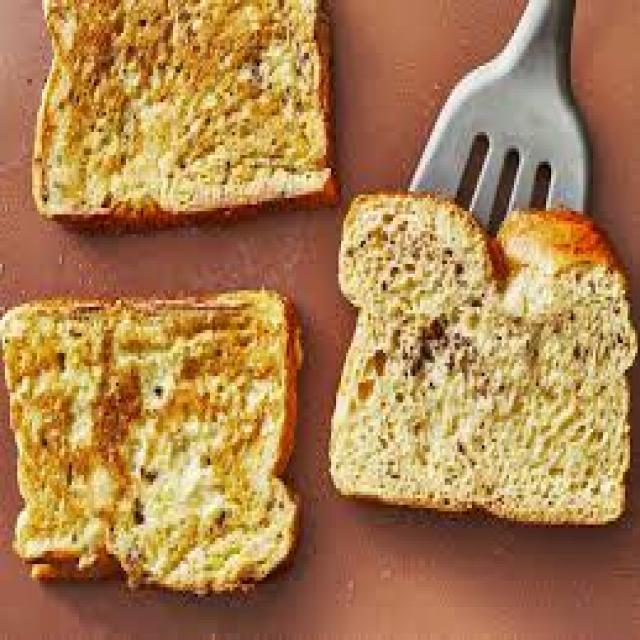Bread: (330, 194, 637, 523), (0, 290, 300, 592), (35, 2, 334, 228)
